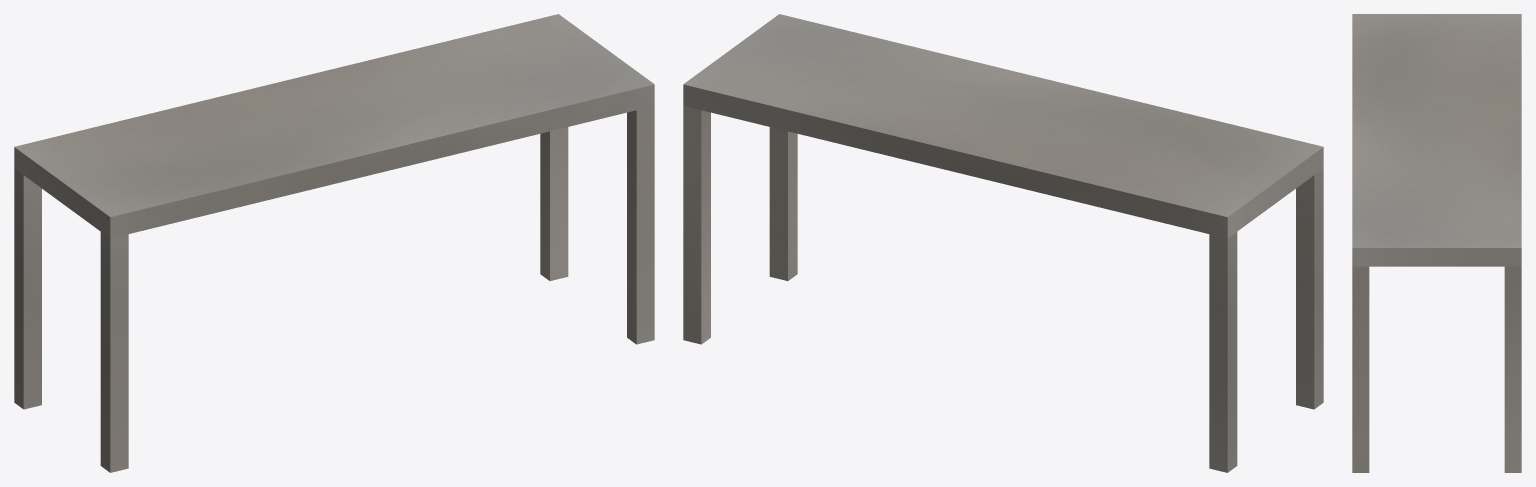
File: table3.fbx
3 renders of one model, left to right at view 1: azimuth 30°, elevation 25°; view 2: azimuth 150°, elevation 25°; view 3: azimuth 270°, elevation 25°, orthographic. The views are drawn at different scales.
Visible parts, largest first — view 1: polySurface6; view 2: polySurface6; view 3: polySurface6.
Boxes of the visible parts, left/top/right/bottom form: polySurface6: left=14, top=14, right=654, bottom=472; polySurface6: left=683, top=14, right=1323, bottom=472; polySurface6: left=1352, top=14, right=1521, bottom=472.
Bounding box in the file's own units: 2.81 × 1.26 × 0.8597.
1 material, 1 textured.
